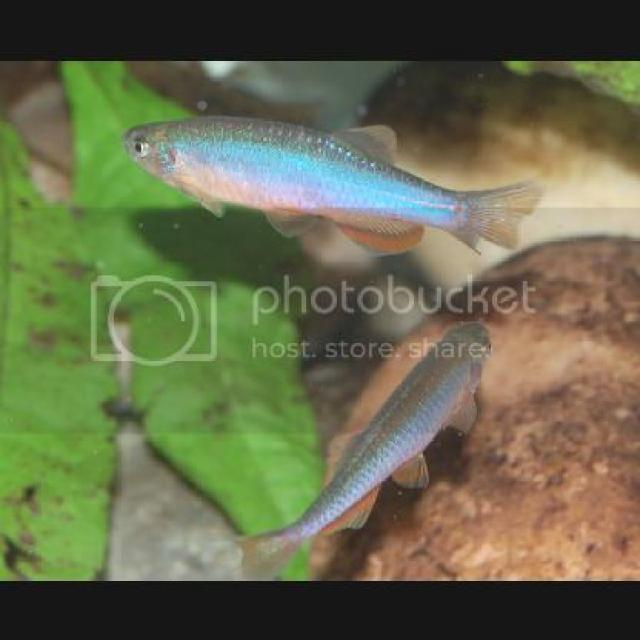ZebraFish: (123, 114, 552, 248)
